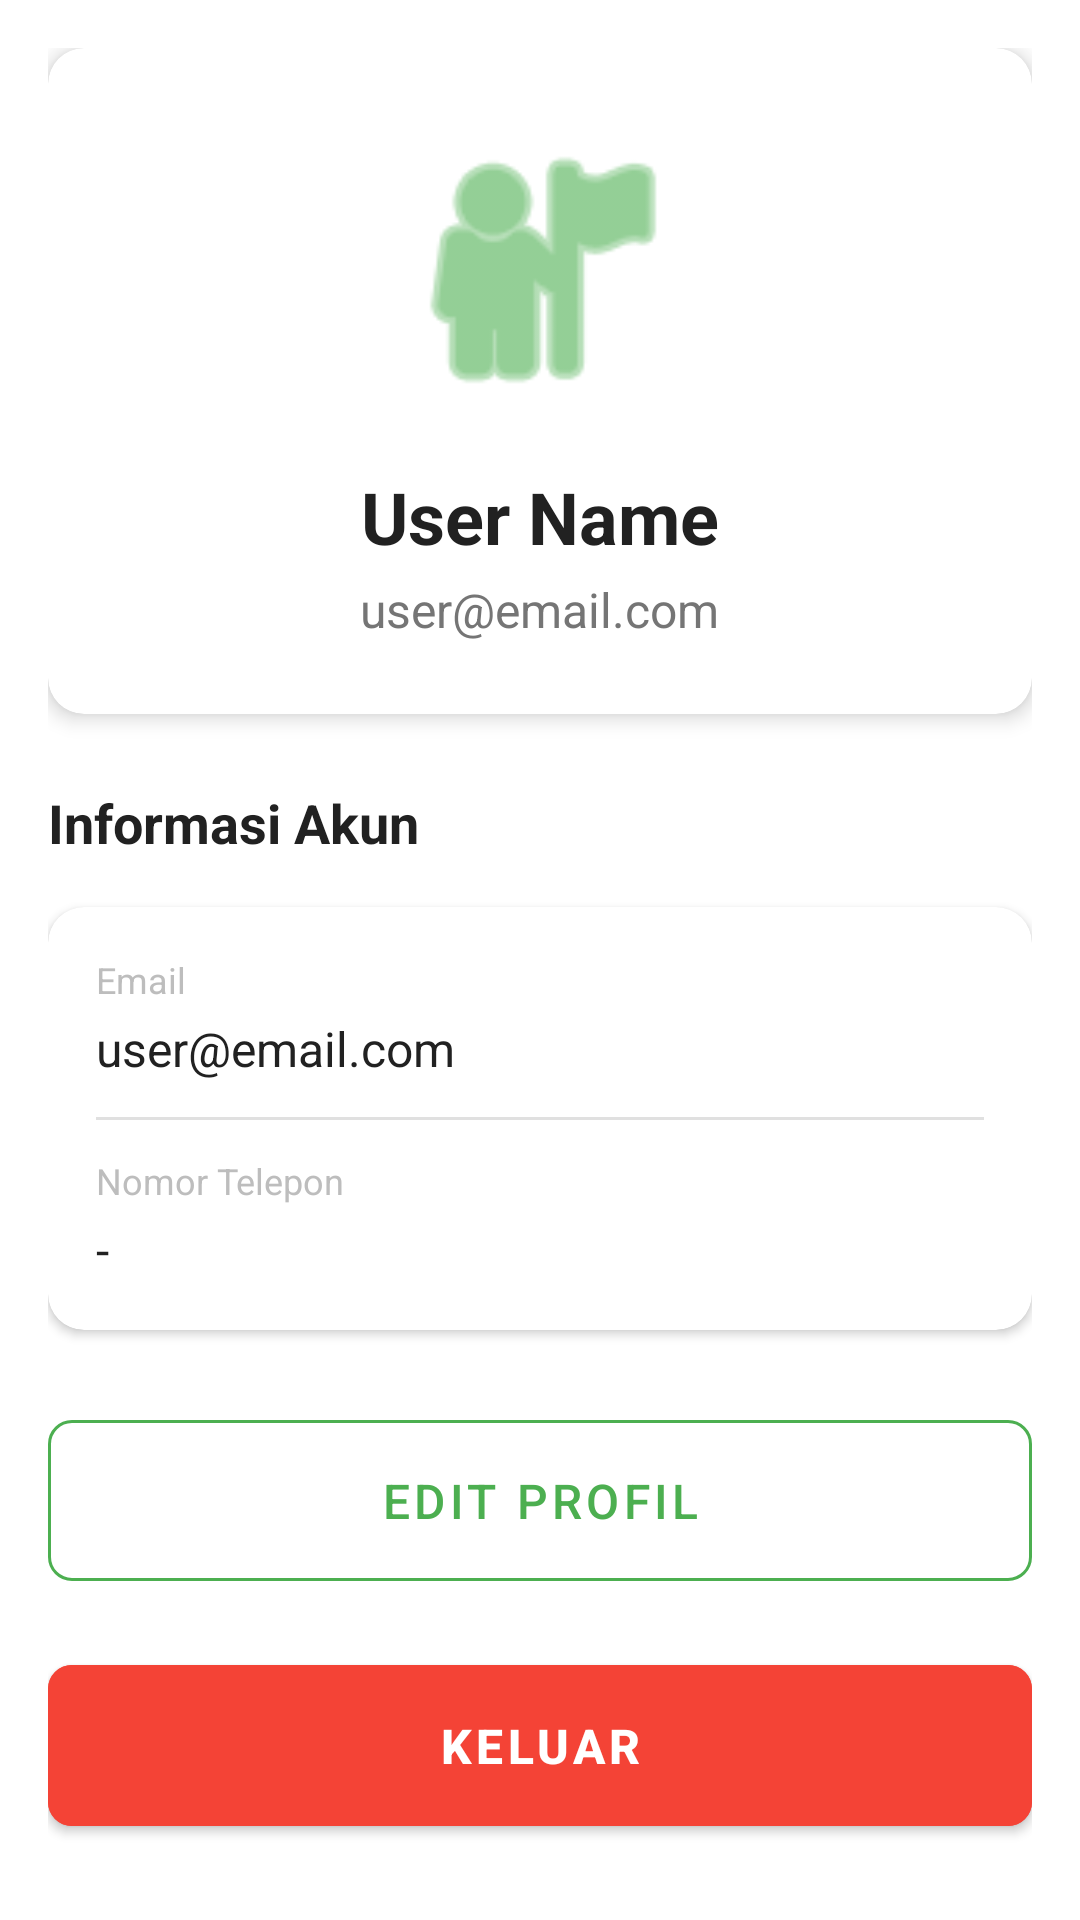

Screen size 1080*1920. Icon name, then its center in pixels as [x,y]:
Profile: [543,270]
